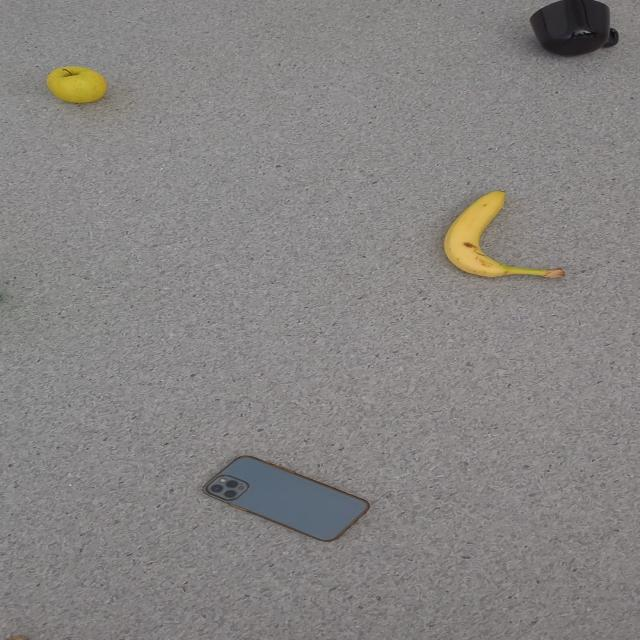apple: (45, 66, 108, 103)
banana: (442, 190, 565, 279)
mug: (528, 0, 619, 56)
phone: (201, 455, 370, 542)
